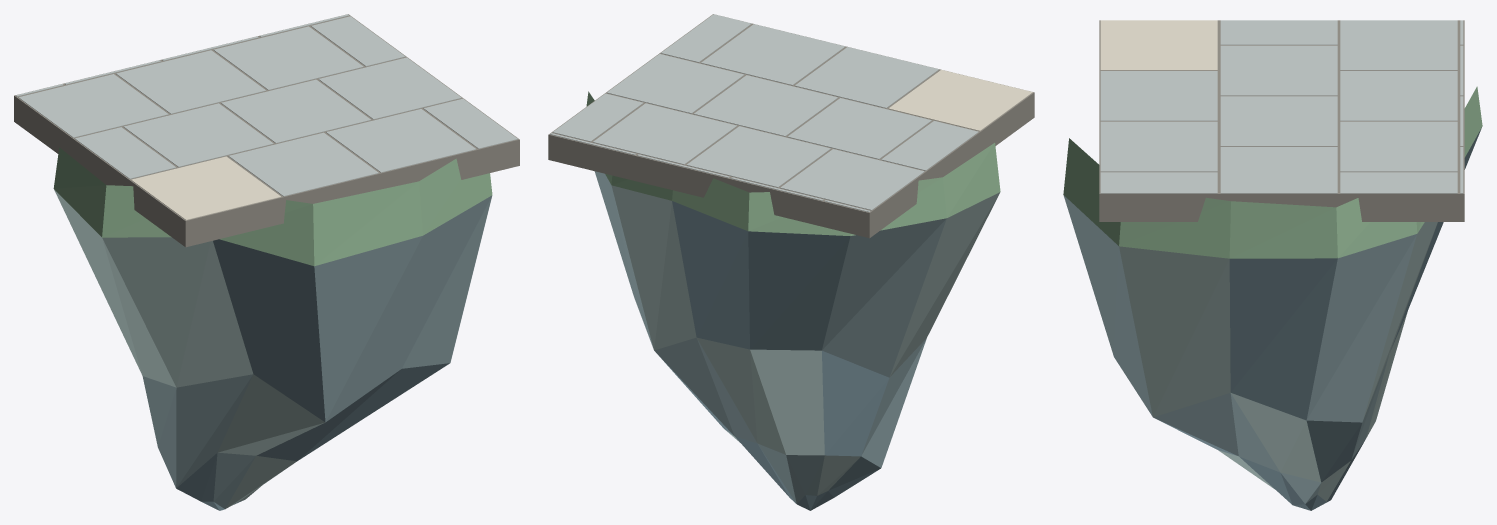
File: FloatingIsland06.glb
3 views of the same model, side by side, from view 1: azimuth 30°, elevation 25°; view 2: azimuth 150°, elevation 25°; view 3: azimuth 270°, elevation 25° (orthographic). The views are drawn at different scales.
Parts seen in each view (by area): view 1: FloatingIsland06; view 2: FloatingIsland06; view 3: FloatingIsland06.
Boxes of the visible parts, box(x1,y1,x2,y2) form: FloatingIsland06: box(14, 14, 519, 510); FloatingIsland06: box(548, 14, 1034, 510); FloatingIsland06: box(1063, 20, 1482, 510).
Size of the model in its own units: 4.11 by 4.07 by 3.67.
